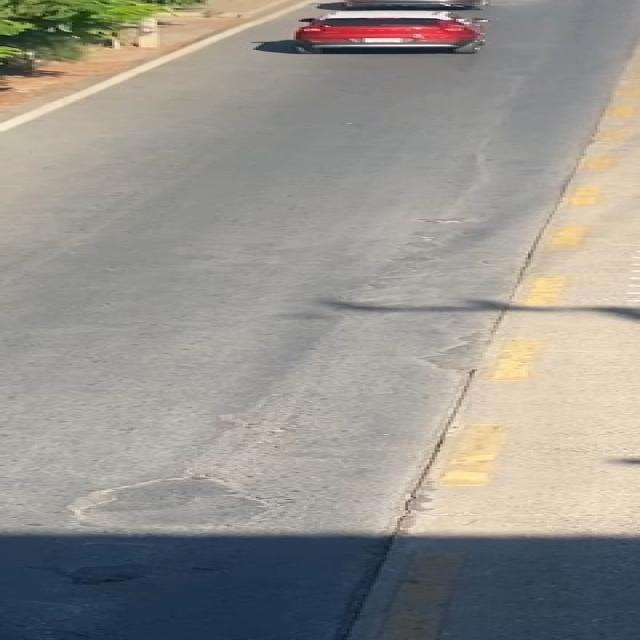car: (263, 8, 533, 56)
